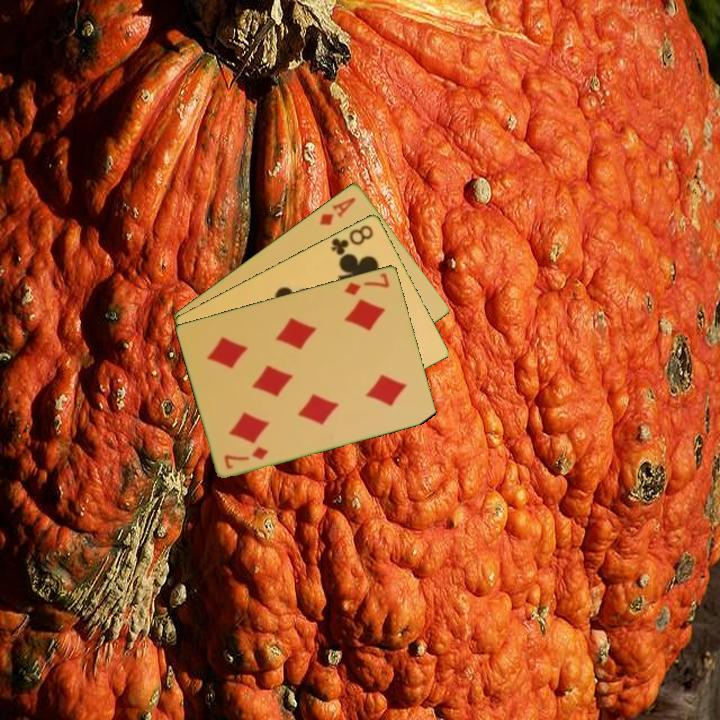7d: (341, 269, 392, 298), (221, 443, 271, 471)
8c: (328, 221, 376, 258)
Ad: (316, 193, 359, 228)
